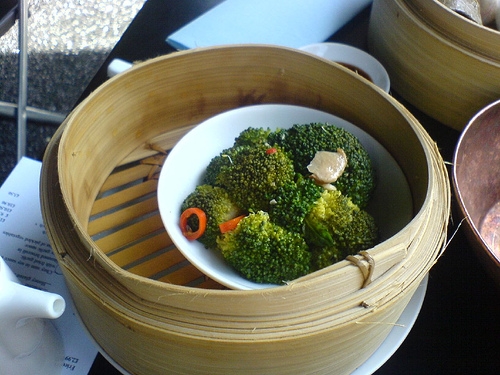broccoli: (177, 119, 377, 283)
